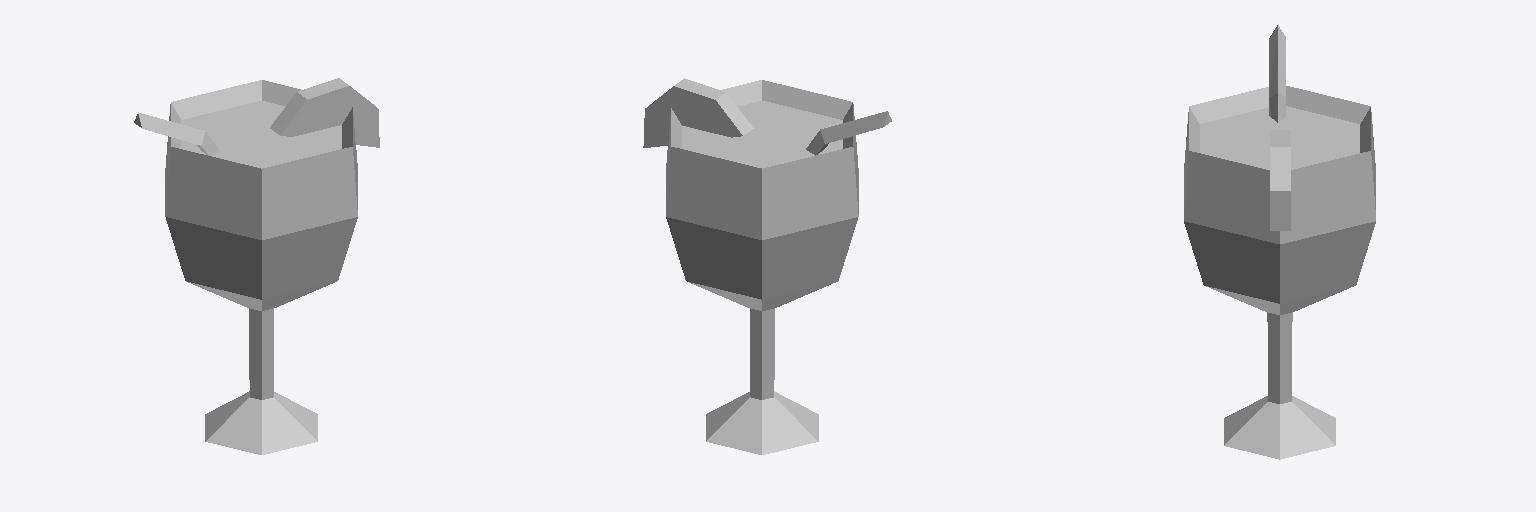
The model's file is Drink_03.OBJ.
3 renders of one model, left to right at view 1: azimuth 30°, elevation 25°; view 2: azimuth 150°, elevation 25°; view 3: azimuth 270°, elevation 25°, orthographic.
Bounding box in the file's own units: 0.0661 × 0.0921 × 0.0464.